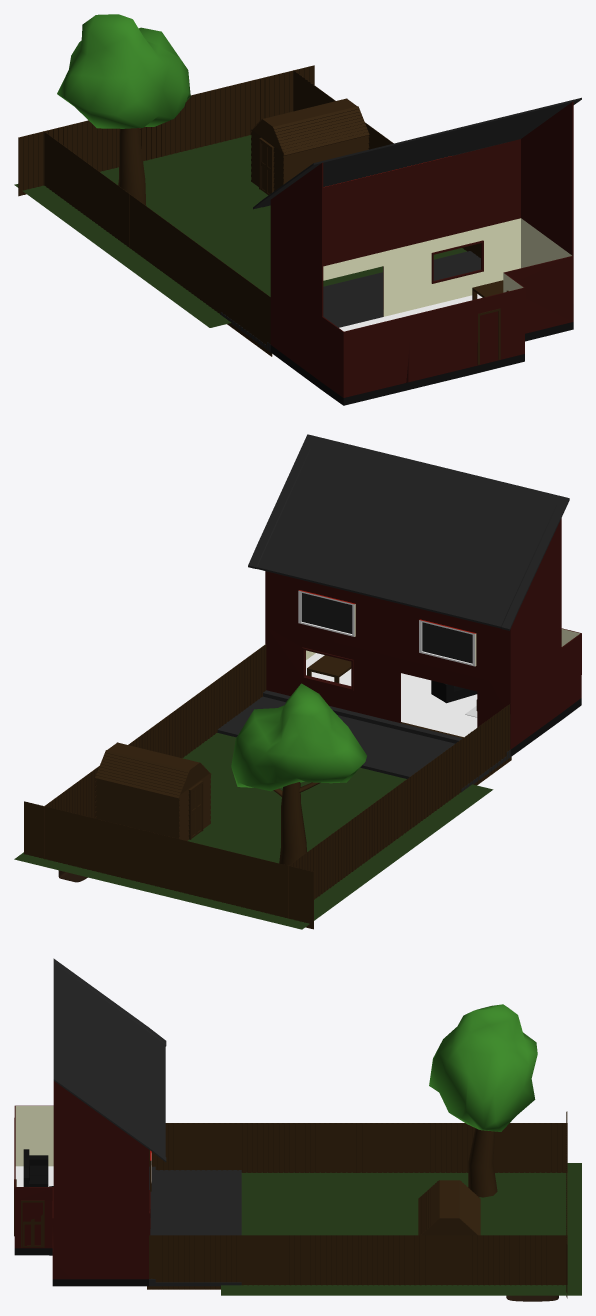
File: KeepSakeHouse.fbx
3 renders of one model, top to bottom at view 1: azimuth 30°, elevation 25°; view 2: azimuth 150°, elevation 25°; view 3: azimuth 270°, elevation 25°, orthographic. The views are drawn at different scales.
Visible parts, largest first — view 1: Box069, Floor1, GeoSphere001, Floor003, Box110, Box099, Box098, Box108, Floor002, Box096, Box095, Cylinder023 (+14 smaller); view 2: Box069, Floor1, GeoSphere001, Box106, Box109, Box095, Box096, Box099, Box098, Box097, Box100, Floor003 (+19 smaller); view 3: Box069, Floor1, Floor003, GeoSphere001, Box087, Box090, Box093, Box083, Box086, Box089, Box091, Box088 (+15 smaller).
Boxes of the visible parts, x1=… form: Box069: x1=220, y1=97, x2=581, y2=405; Floor1: x1=14, y1=135, x2=466, y2=327; GeoSphere001: x1=57, y1=14, x2=190, y2=128; Floor003: x1=15, y1=136, x2=270, y2=327; Box110: x1=252, y1=98, x2=367, y2=152; Box099: x1=215, y1=77, x2=264, y2=143; Box098: x1=165, y1=89, x2=215, y2=155; Box108: x1=273, y1=106, x2=369, y2=155; Floor002: x1=17, y1=135, x2=251, y2=215; Box096: x1=67, y1=120, x2=116, y2=171; Box095: x1=18, y1=125, x2=67, y2=196; Cylinder023: x1=118, y1=128, x2=146, y2=205; Box069: x1=217, y1=434, x2=581, y2=791; Floor1: x1=14, y1=733, x2=492, y2=929; GeoSphere001: x1=231, y1=683, x2=366, y2=791; Box106: x1=96, y1=778, x2=178, y2=838; Box109: x1=95, y1=750, x2=189, y2=798; Box095: x1=265, y1=860, x2=313, y2=929; Box096: x1=216, y1=848, x2=265, y2=912; Box099: x1=72, y1=813, x2=120, y2=877; Box098: x1=121, y1=825, x2=169, y2=889; Box097: x1=169, y1=837, x2=217, y2=900; Box100: x1=24, y1=801, x2=72, y2=865; Floor003: x1=40, y1=733, x2=491, y2=929; Box069: x1=14, y1=958, x2=241, y2=1286; Floor1: x1=221, y1=1163, x2=581, y2=1295; Floor003: x1=221, y1=1163, x2=581, y2=1295; GeoSphere001: x1=429, y1=1004, x2=537, y2=1131; Box087: x1=514, y1=1235, x2=567, y2=1285; Box090: x1=356, y1=1235, x2=409, y2=1285; Box093: x1=199, y1=1235, x2=252, y2=1289; Box083: x1=356, y1=1123, x2=409, y2=1172; Box086: x1=514, y1=1123, x2=567, y2=1172; Box089: x1=409, y1=1235, x2=461, y2=1285; Box091: x1=305, y1=1235, x2=358, y2=1285; Box088: x1=462, y1=1235, x2=514, y2=1285.
Size of the model in its own units: 476 by 844 by 379.
